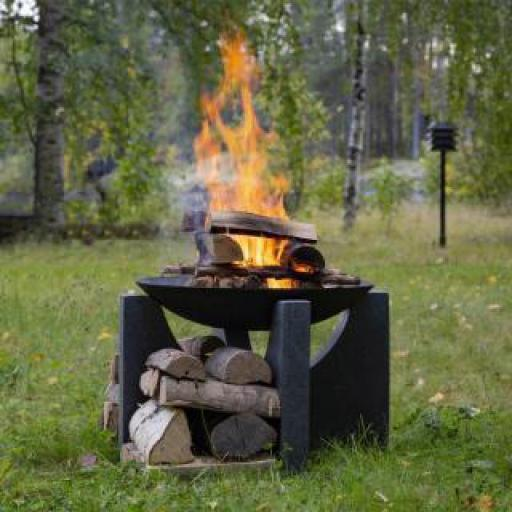smoke: (120, 10, 197, 259), (210, 38, 288, 254)
